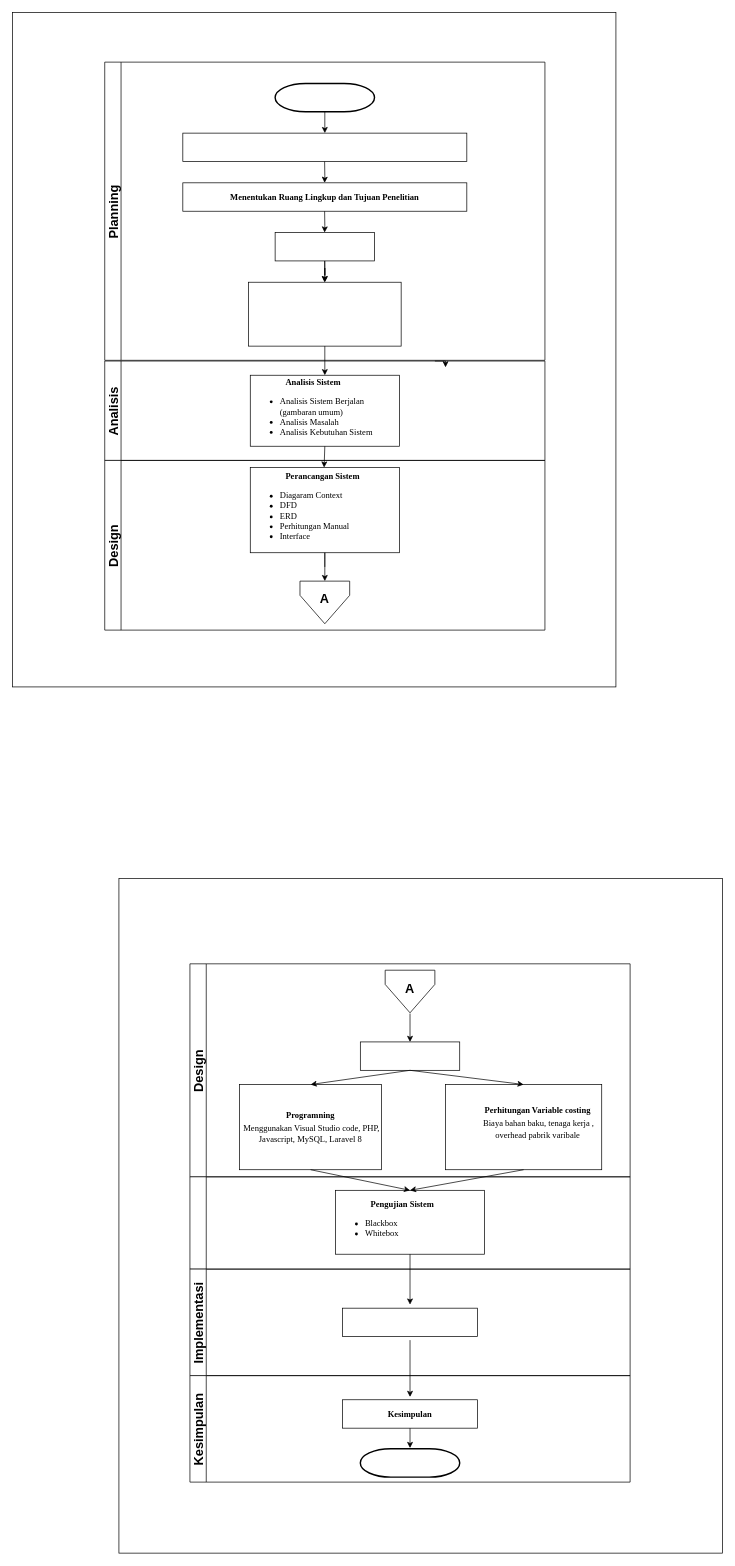
This 735x1566 diagram has some shape labels left out. Here are the shapes that lost their labels. From the top down, the centre of each, then its label:
At pixel 324 97: "Mulai".
At pixel 324 147: "Menentukan Rumusan Masalah".
At pixel 324 246: "Studi Literatur".
At pixel 324 314: "Pengumpulan Data Wawancara Observasi Literatur".
At pixel 410 1055: "Programming & pehitungan".
At pixel 409 1222: "Testing".
At pixel 409 1322: "Hosting Website Aplikasi HPP".
At pixel 409 1463: "Selesai".
